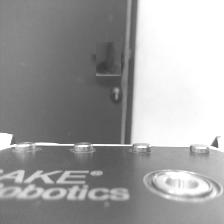Door Handle: (94, 44, 124, 74)
Lock: (111, 84, 123, 106)
